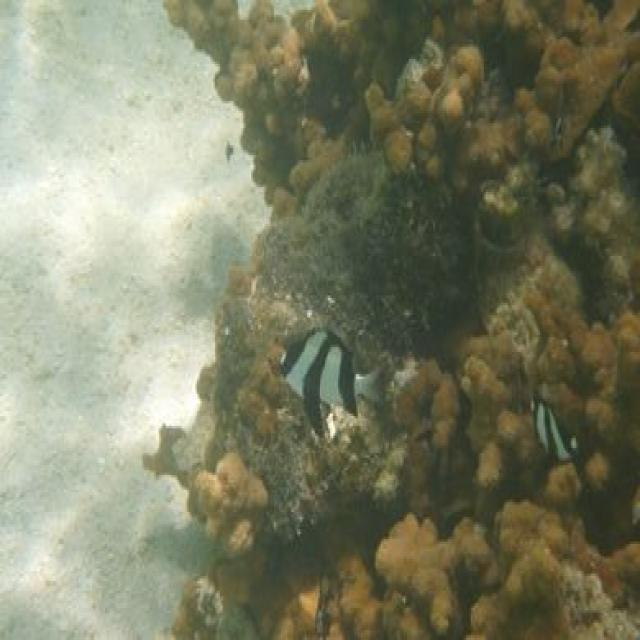Three_striped DasmselFish: (278, 321, 388, 433), (526, 393, 580, 467)
